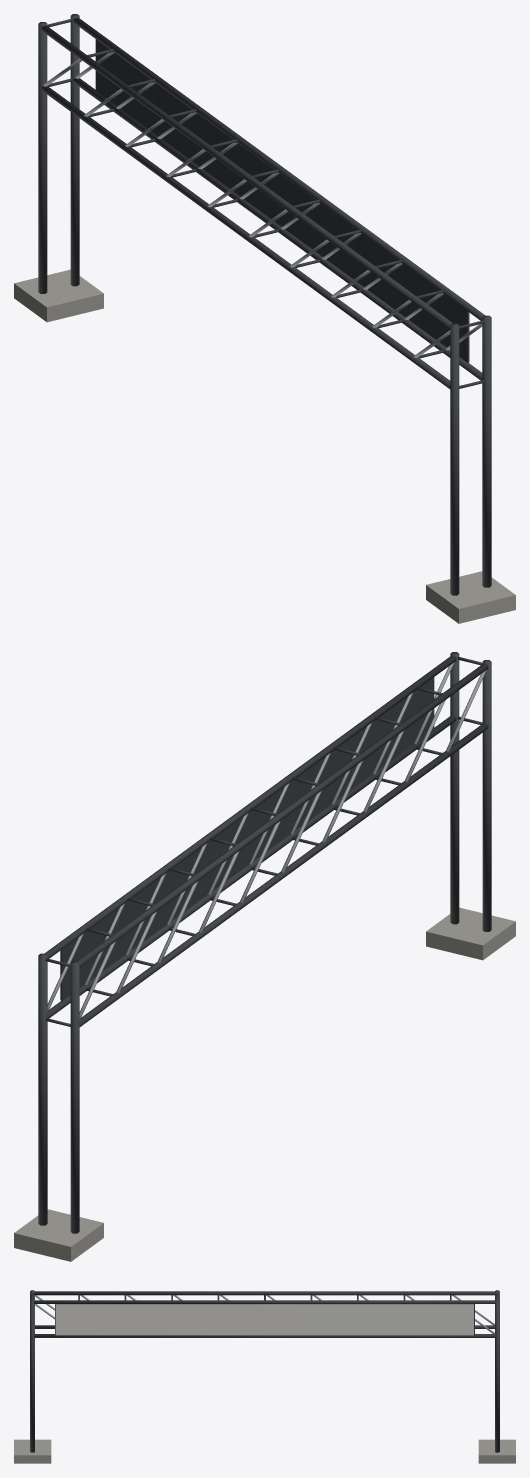
Rendered from bridge-banner_far.glb.
3 renders of one model, top to bottom at view 1: azimuth 30°, elevation 25°; view 2: azimuth 150°, elevation 25°; view 3: azimuth 270°, elevation 25°, orthographic. The views are drawn at different scales.
Parts seen in each view (by area): view 1: dark-steel, concrete, galvanised; view 2: dark-steel, galvanised, concrete; view 3: board-face, dark-steel, concrete, galvanised.
Boxes of the visible parts, box(x1,y1,x2,y2) form: dark-steel: box(38, 14, 491, 595); concrete: box(14, 269, 515, 623); galvanised: box(43, 52, 482, 357); dark-steel: box(38, 652, 491, 1233); galvanised: box(47, 662, 486, 1020); concrete: box(14, 907, 515, 1261); board-face: box(55, 1304, 473, 1335); dark-steel: box(30, 1290, 499, 1452); concrete: box(14, 1439, 515, 1463); galvanised: box(34, 1295, 495, 1334).
Bounding box in the file's own units: 1.6 × 7.6 × 21.6.
4 materials, 3 textured.
